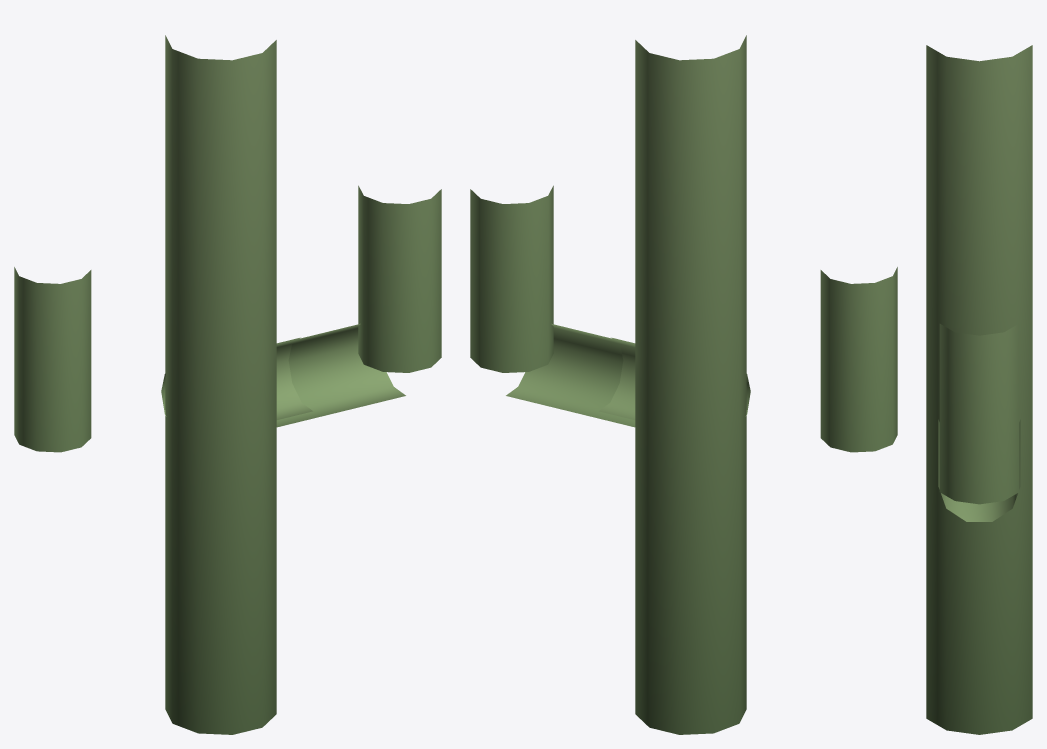
The model's file is cactus_saguaro_a.glb.
3 views of the same model, side by side, from view 1: azimuth 30°, elevation 25°; view 2: azimuth 150°, elevation 25°; view 3: azimuth 270°, elevation 25° (orthographic).
Visible parts, largest first — view 1: cactus; view 2: cactus; view 3: cactus.
Part boxes in pixels (x1,y1,x2,y2): cactus: (14, 35, 441, 734); cactus: (470, 35, 897, 734); cactus: (926, 45, 1032, 734).
Size of the model in its own units: 1.68 by 2.6 by 0.3717.
